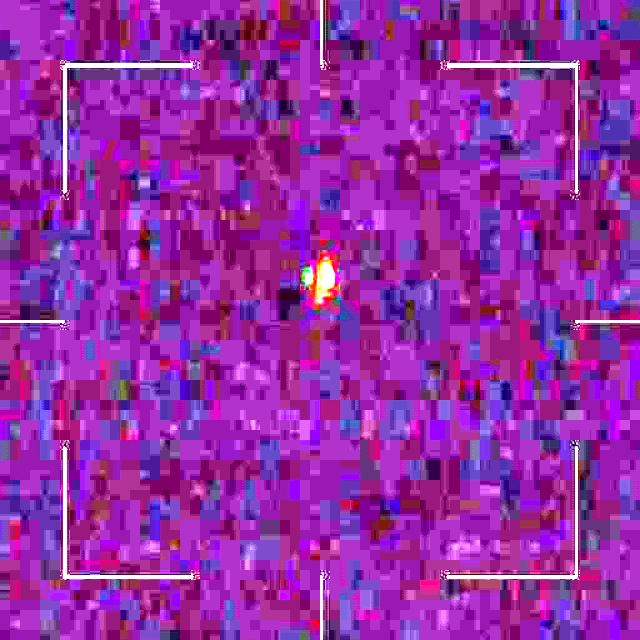bird: (304, 261, 336, 308)
